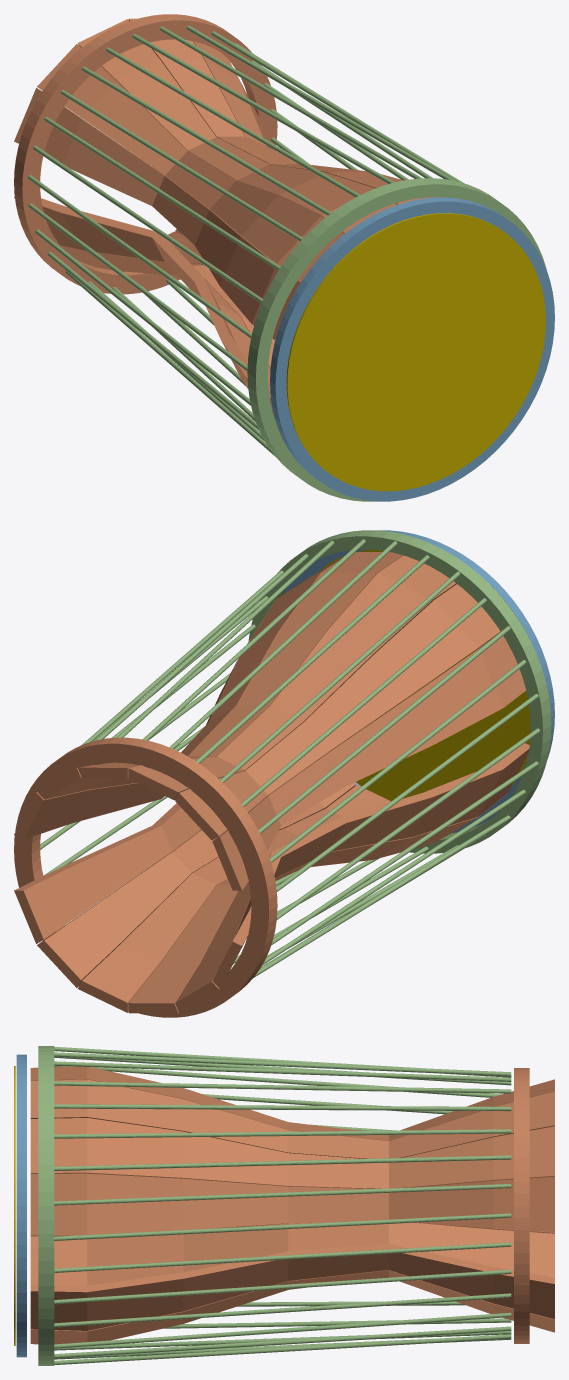
The model's file is stave-djembe-arena-winner.glb.
The picture shows the model from 3 angles, top to bottom: view 1: azimuth 30°, elevation 25°; view 2: azimuth 150°, elevation 25°; view 3: azimuth 270°, elevation 25°; orthographic projection. The views are drawn at different scales.
Visible parts, largest first — view 1: body_0, body_3, body_2, body_1; view 2: body_0, body_2, body_3, body_1; view 3: body_0, body_2, body_1, body_3.
Part boxes in pixels (<box>): body_0: <box>14,14,440,416</box>; body_3: <box>286,213,545,491</box>; body_2: <box>28,25,546,501</box>; body_1: <box>270,197,554,501</box>; body_0: <box>14,552,529,1017</box>; body_2: <box>40,530,551,977</box>; body_3: <box>321,549,530,801</box>; body_1: <box>283,530,554,833</box>; body_0: <box>30,1066,554,1344</box>; body_2: <box>38,1046,511,1365</box>; body_1: <box>16,1054,26,1357</box>; body_3: <box>14,1066,15,1345</box>.
Bounding box in the file's own units: 366 × 366 × 619.
